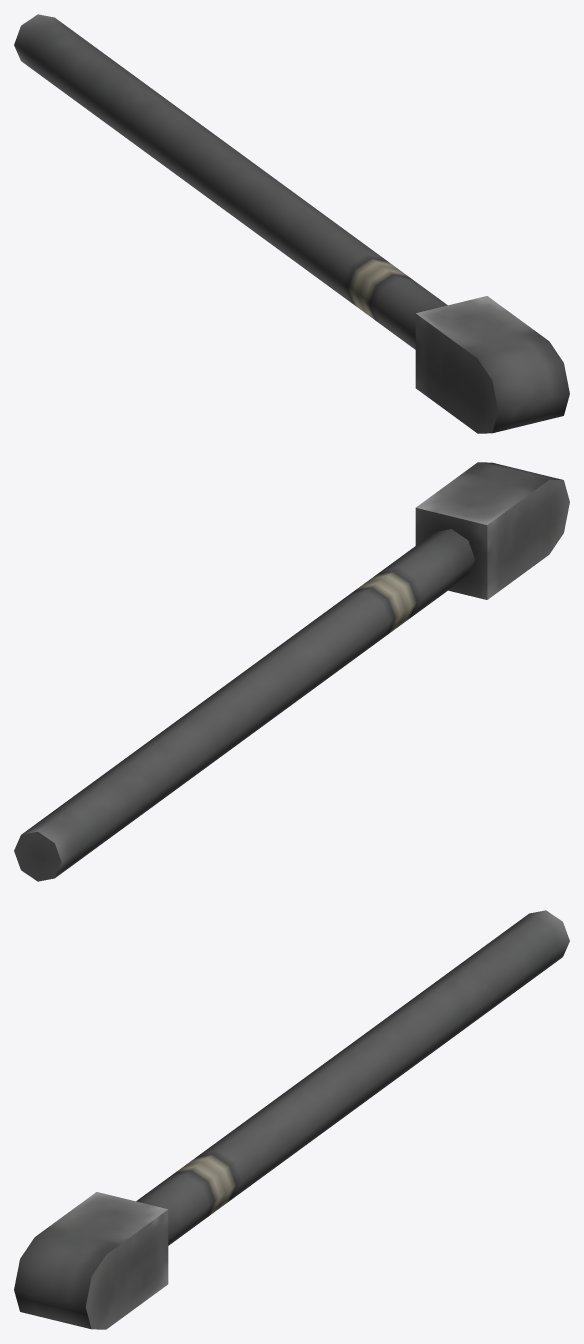
Rendered from eridani_low_gain_antenna_srf_2.obj.
The picture shows the model from 3 angles, top to bottom: view 1: azimuth 30°, elevation 25°; view 2: azimuth 150°, elevation 25°; view 3: azimuth 330°, elevation 25°; orthographic projection.
Parts seen in each view (by area): view 1: mesh1; view 2: mesh1; view 3: mesh1.
Boxes of the visible parts, <box> form: mesh1: <box>14,14,569,433</box>; mesh1: <box>14,462,569,881</box>; mesh1: <box>14,910,569,1329</box>.
Bounding box in the file's own units: 0.0375 × 0.0375 × 0.45.
Materials: 1 (1 with a texture image).
